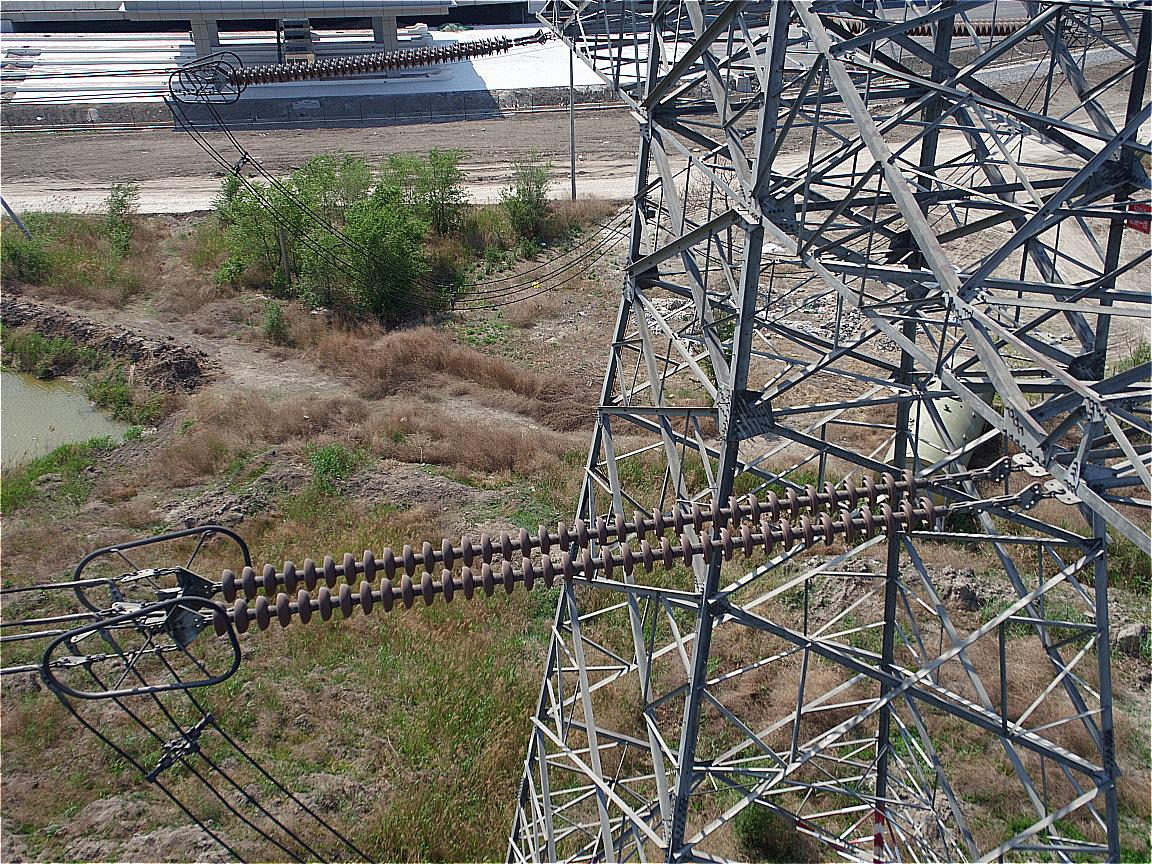insultor1: (211, 469, 936, 637)
insultor2: (229, 32, 513, 87)
